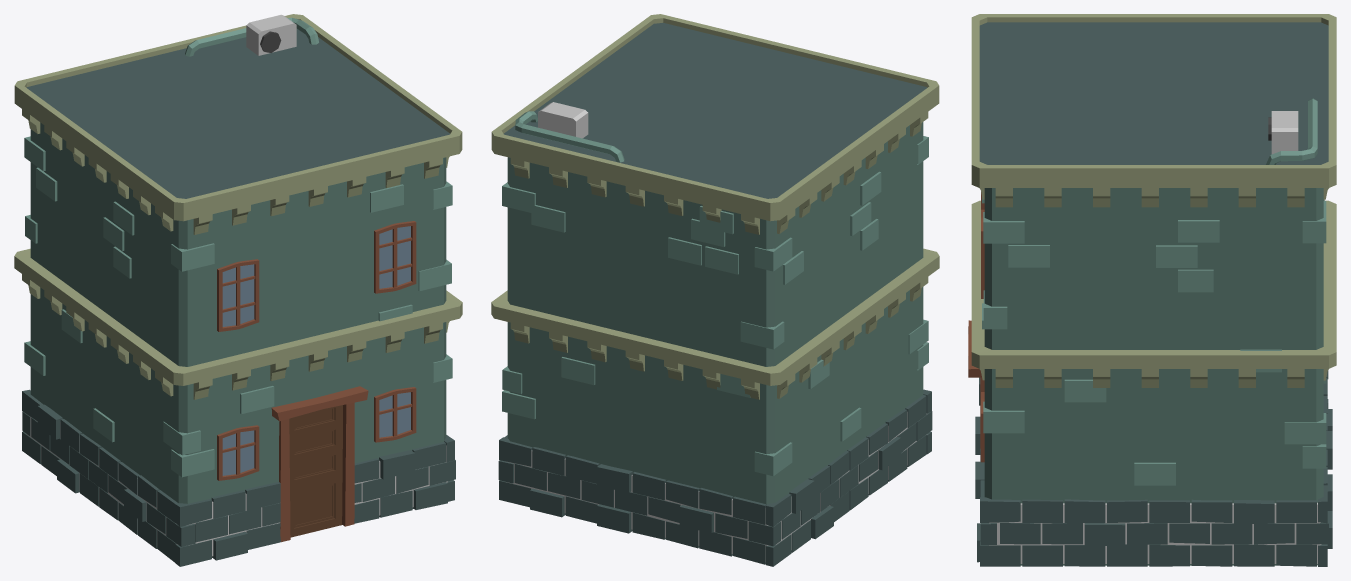
File: 2story_2_mat.glb
3 renders of one model, left to right at view 1: azimuth 30°, elevation 25°; view 2: azimuth 150°, elevation 25°; view 3: azimuth 270°, elevation 25°, orthographic. The views are drawn at different scales.
Visible parts, largest first — view 1: 2Story_2_Mat; view 2: 2Story_2_Mat; view 3: 2Story_2_Mat.
Part boxes in pixels (left/top/right/bottom): 2Story_2_Mat: left=14, top=14, right=462, bottom=566; 2Story_2_Mat: left=491, top=14, right=939, bottom=566; 2Story_2_Mat: left=968, top=14, right=1336, bottom=566.
Bounding box in the file's own units: 2.16 × 2.76 × 2.17.
